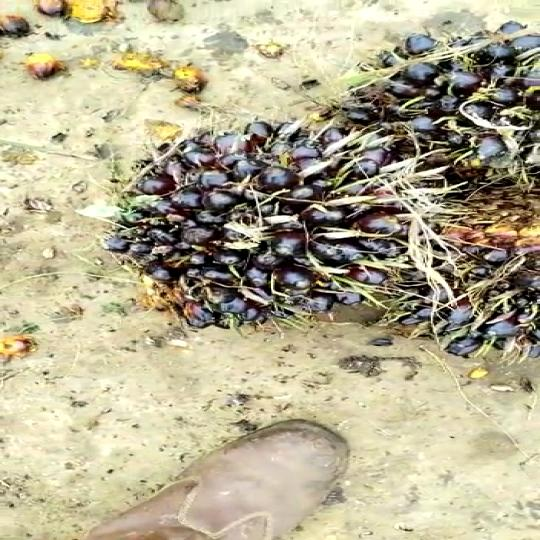mentah: (118, 110, 438, 327), (344, 150, 529, 380), (344, 19, 540, 173)
